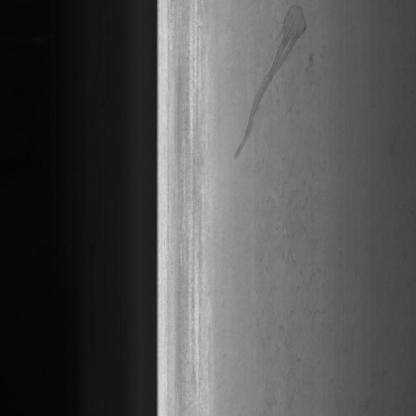silk_spot: (251, 150, 327, 389)
water_spot: (228, 0, 323, 171)
